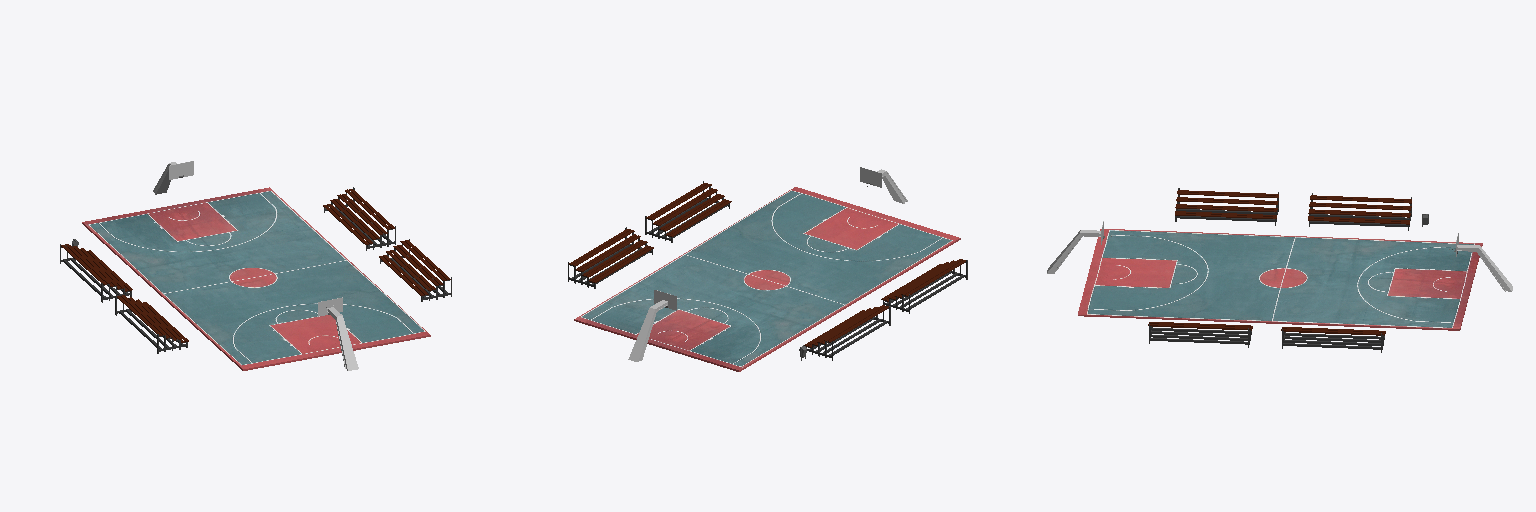
3 renders of one model, left to right at view 1: azimuth 30°, elevation 25°; view 2: azimuth 150°, elevation 25°; view 3: azimuth 270°, elevation 25°, orthographic.
Visible parts, largest first — view 1: JZ_JX_24; view 2: JZ_JX_24; view 3: JZ_JX_24.
Part boxes in pixels (x1,y1,x2,y2): JZ_JX_24: (60, 161, 451, 370); JZ_JX_24: (568, 167, 967, 371); JZ_JX_24: (1047, 188, 1512, 352).
Bounding box in the file's own units: 2513 × 394 × 3406.
Materials: 6 (1 with a texture image).